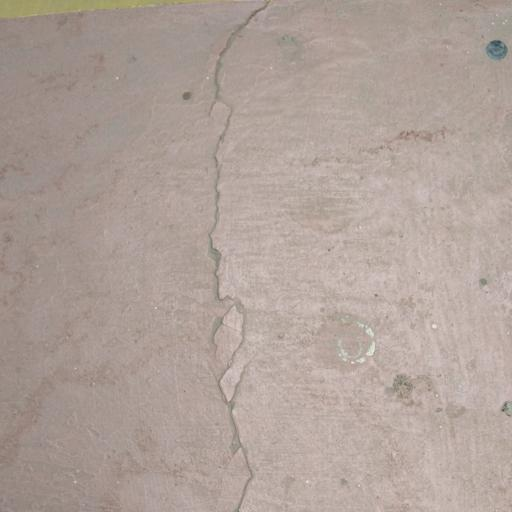minor_crack: (195, 0, 283, 512)
